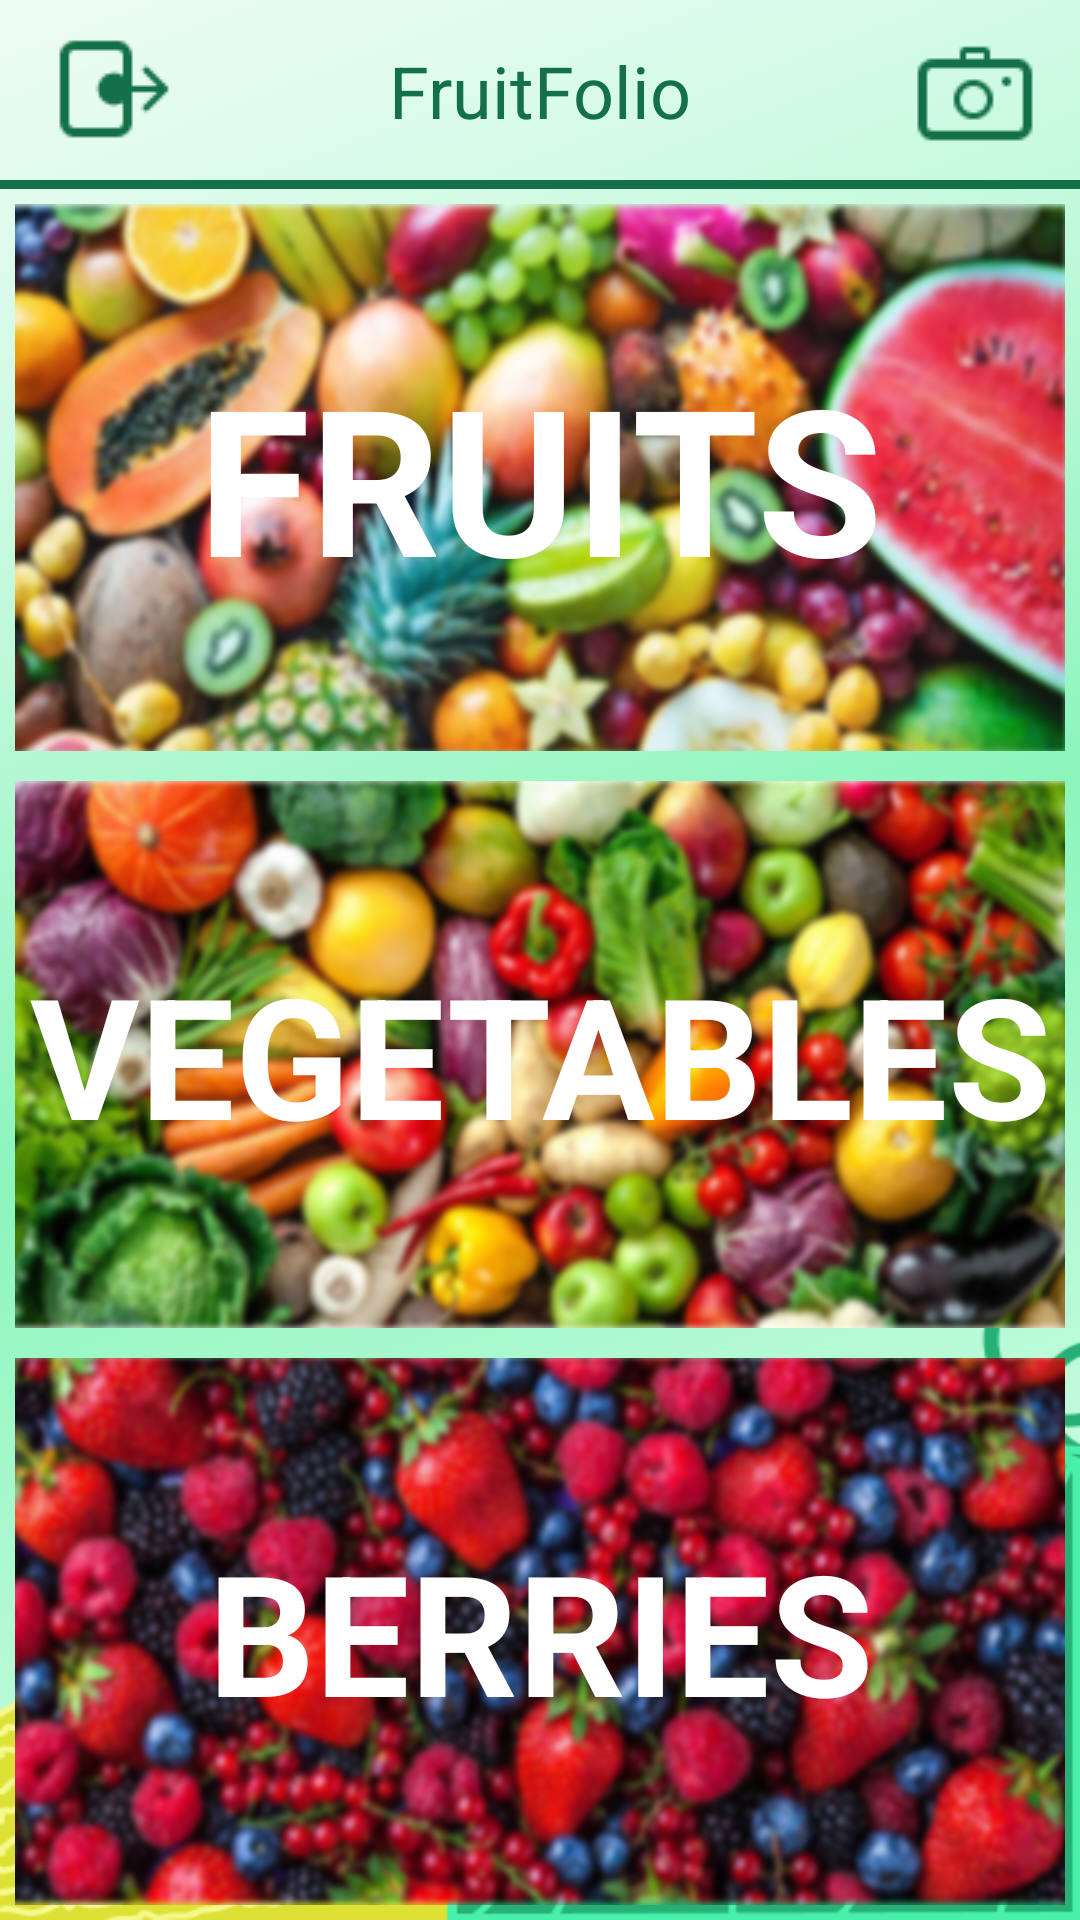

Icon click points for this 1080×1920 phone screenshot, format [x,y]:
camera: [975,93]
